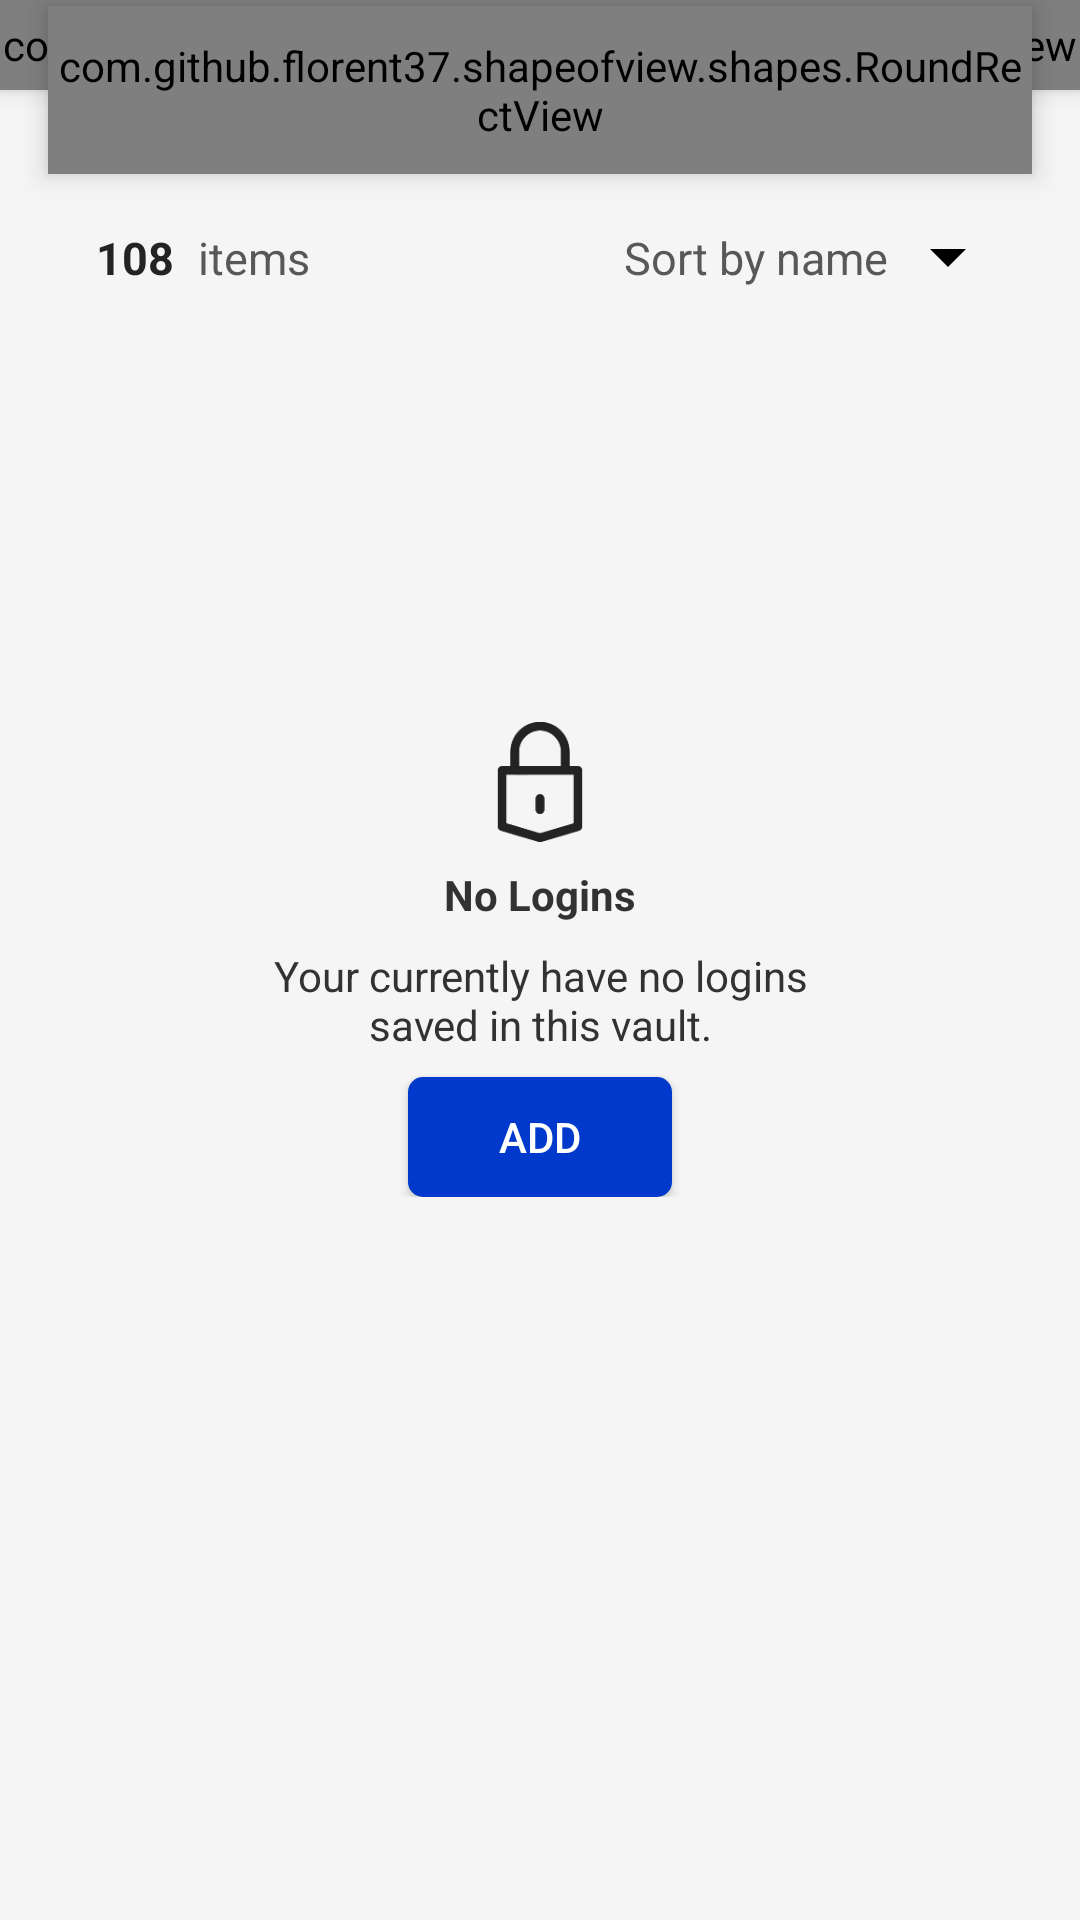

Named icons in this screenshot (1080 x 1920) and their bounding boxes, (x1, y1, x2, y2):
down arrow: (930, 249, 966, 267)
padlock: (497, 722, 583, 842)
